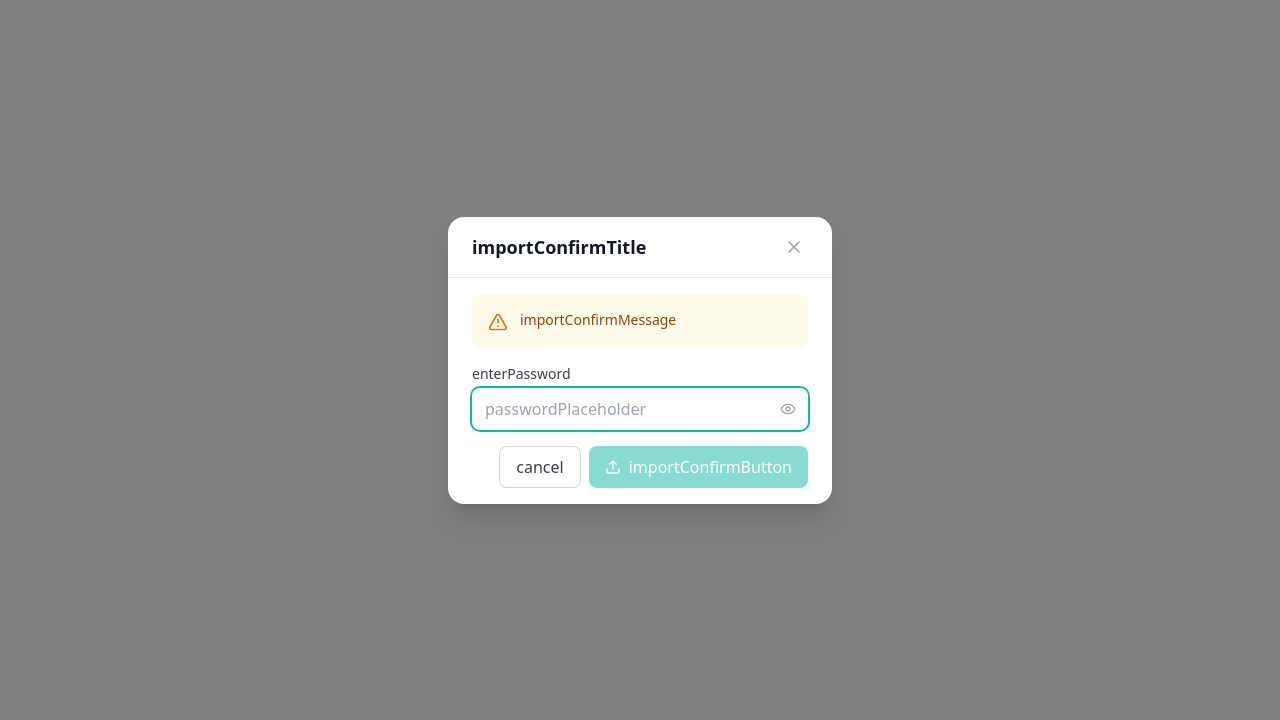
Test case: ImportConfirmModal › パスワード保護中 › 依頼が理由を返したら理由を出し、閉じない
Type "wrong" into the password field with test id "password-field-import".
click(640, 408); type("wrong")  # box [472,388,808,430]
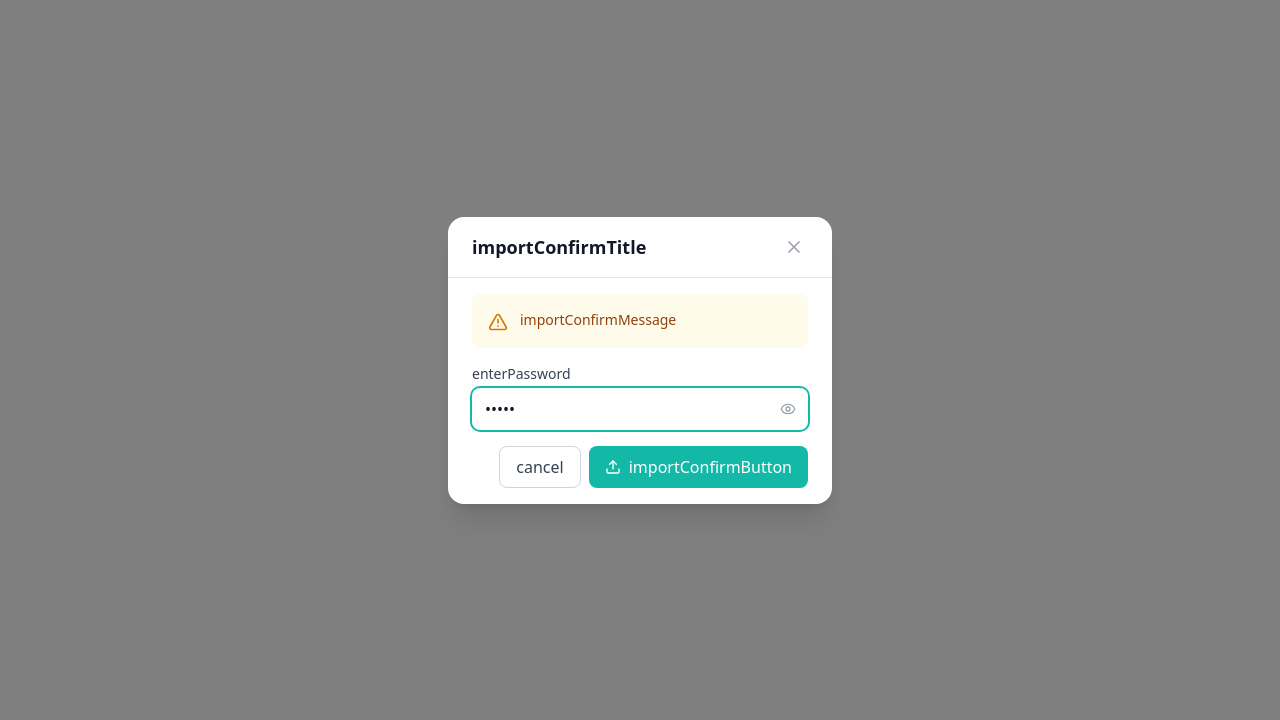
Click the button with test id "import-confirm-submit".
click(698, 466)  # box [589,446,808,488]
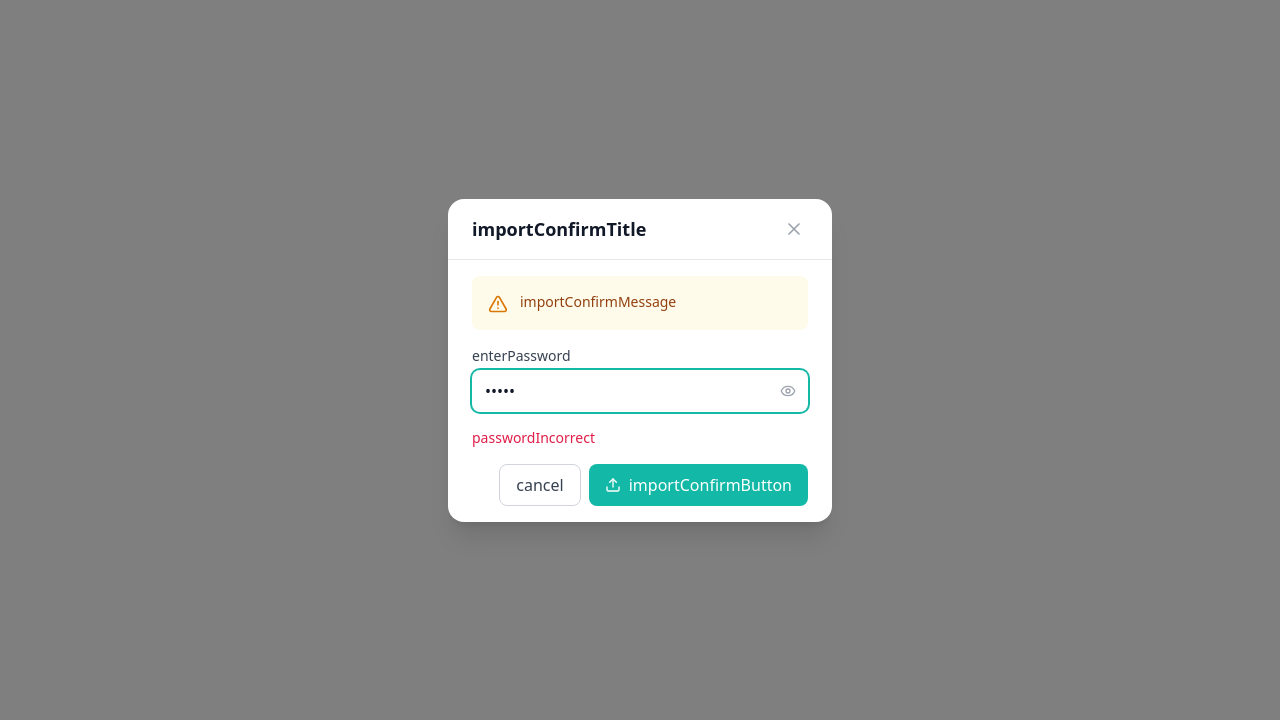
Expected: the text with test id "import-confirm-error" reads "passwordIncorrect", [472,428,595,446]
